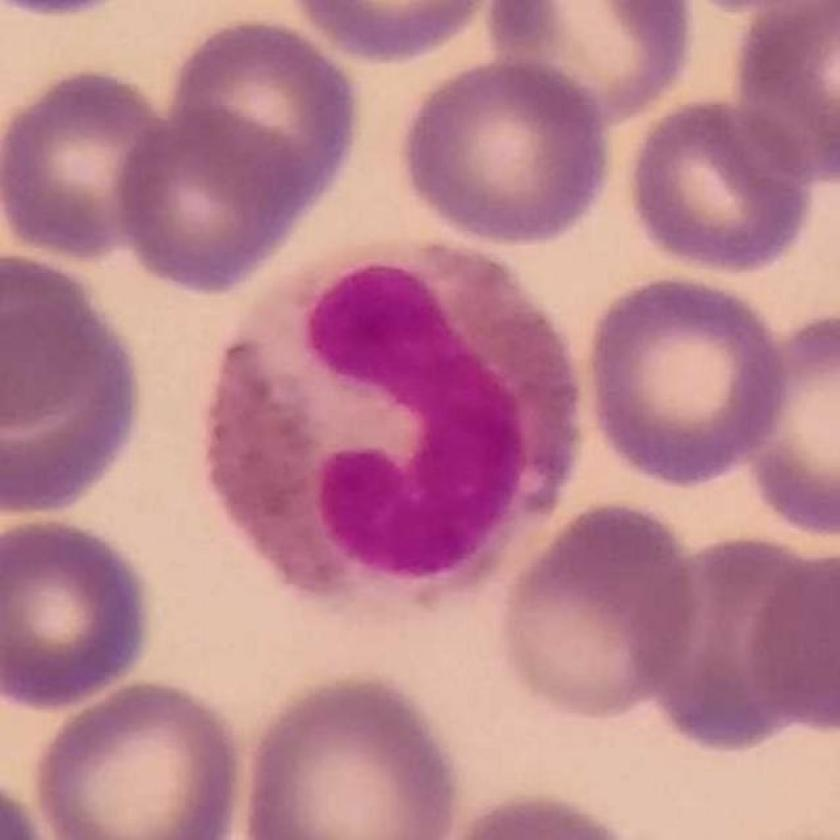eosinophil: (204, 232, 587, 624)
